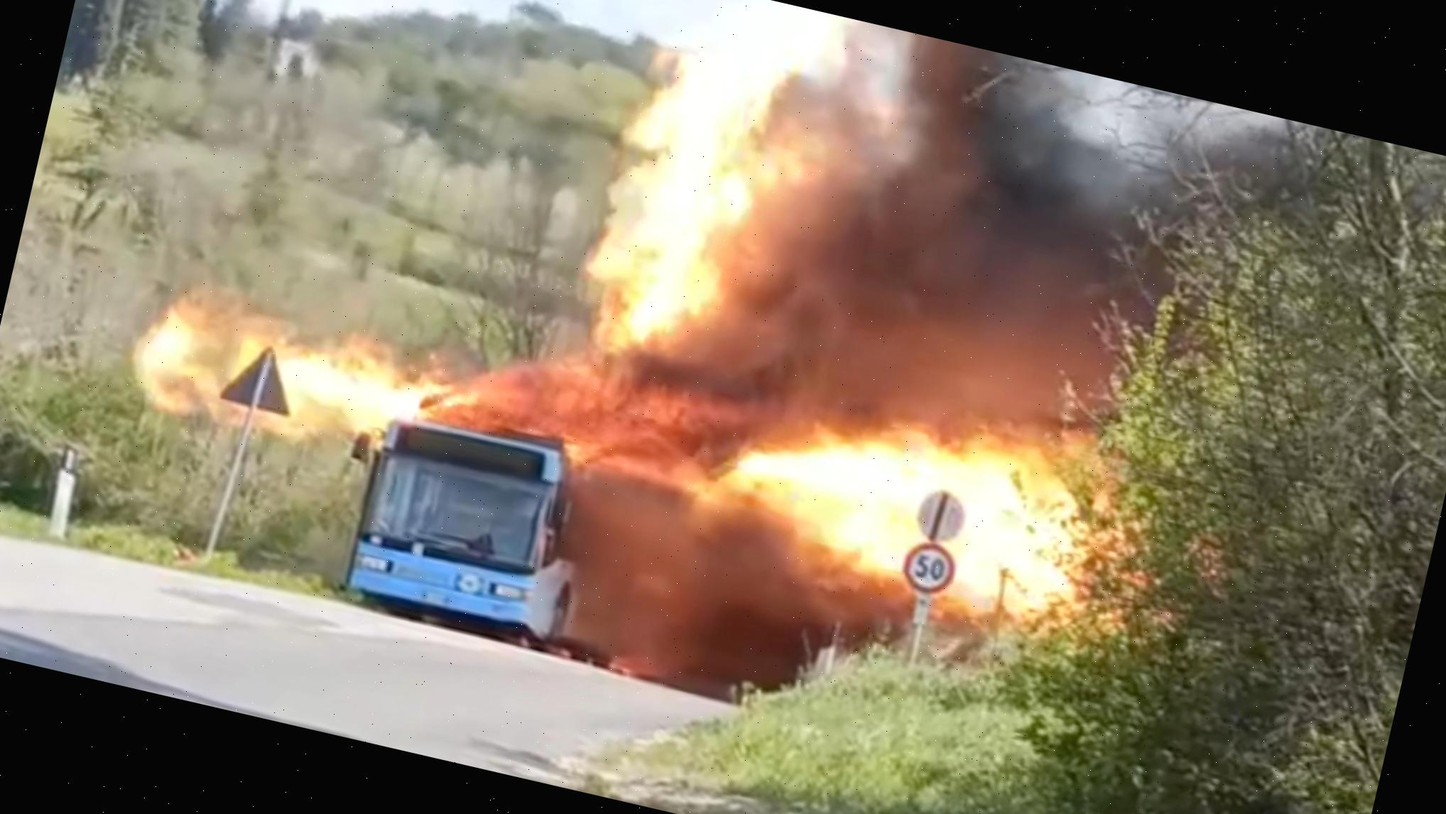fire: (108, 258, 1257, 664), (549, 0, 857, 425)
smoke: (816, 34, 1311, 484), (592, 536, 827, 691)
